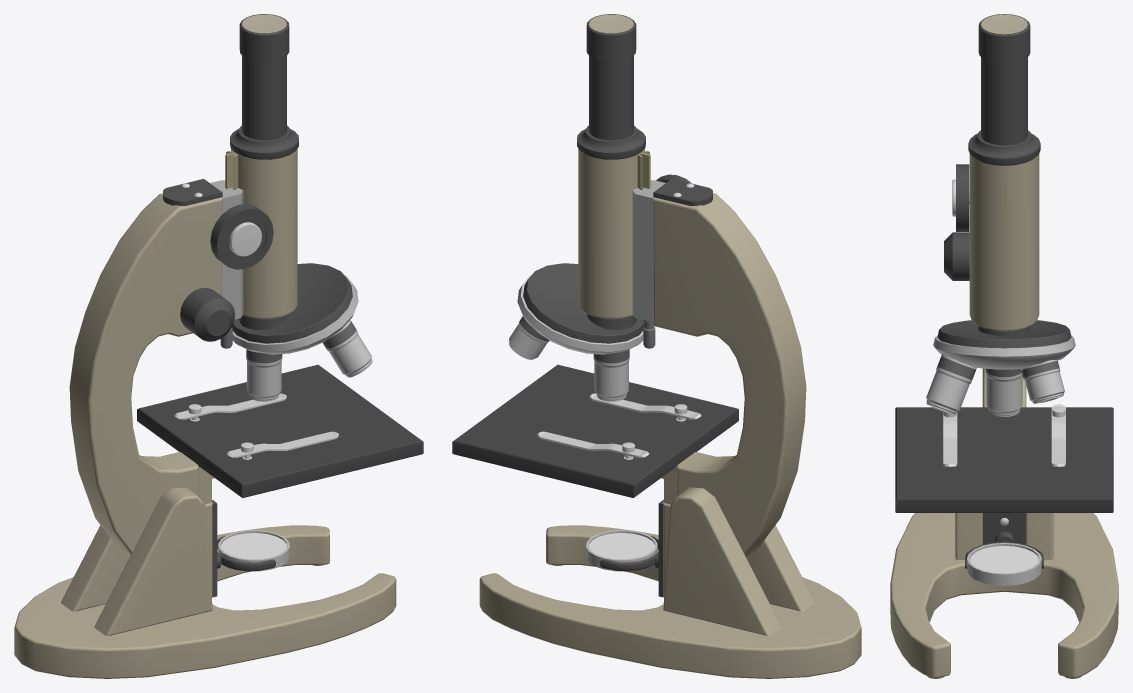
File: Microscope.fbx
The picture shows the model from 3 angles, left to right: view 1: azimuth 30°, elevation 25°; view 2: azimuth 150°, elevation 25°; view 3: azimuth 270°, elevation 25°; orthographic projection. The views are drawn at different scales.
Parts seen in each view (by area): view 1: pCube20; view 2: pCube20; view 3: pCube20.
Boxes of the visible parts, box(x1,y1,x2,y2) form: pCube20: box(14, 14, 423, 678); pCube20: box(452, 14, 861, 678); pCube20: box(890, 14, 1118, 678).
Size of the model in its own units: 17.22 by 27.42 by 9.35.
